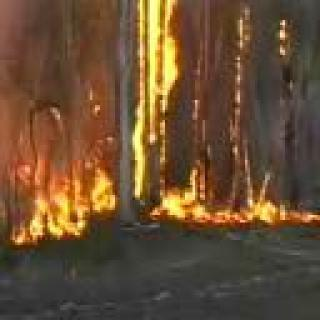fire: (136, 0, 193, 238), (4, 163, 112, 254), (220, 195, 309, 224)
